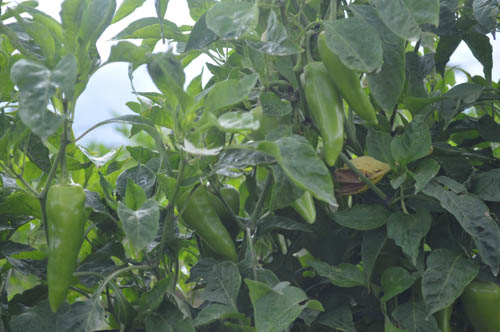ChiliPepper: (317, 33, 383, 125), (171, 172, 236, 260), (42, 184, 86, 311), (300, 64, 344, 160)
